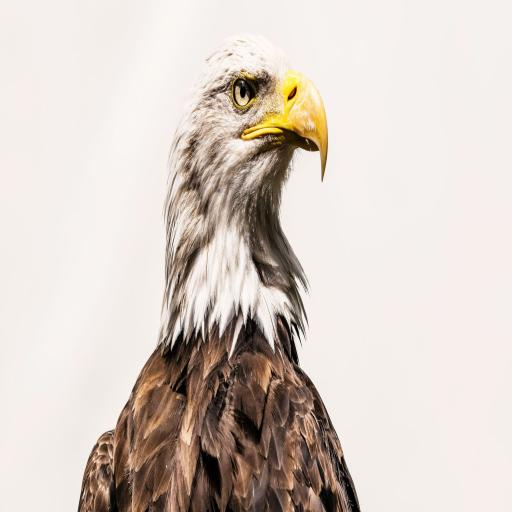eagle: (43, 16, 414, 512)
